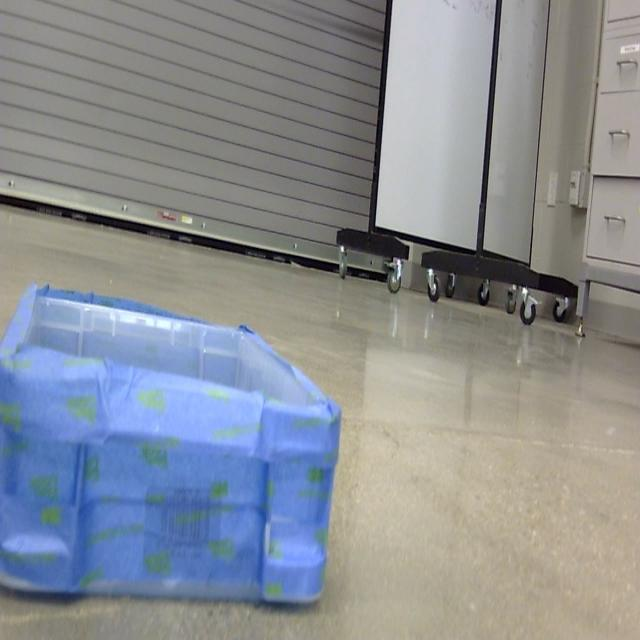bucket: (0, 284, 342, 611)
